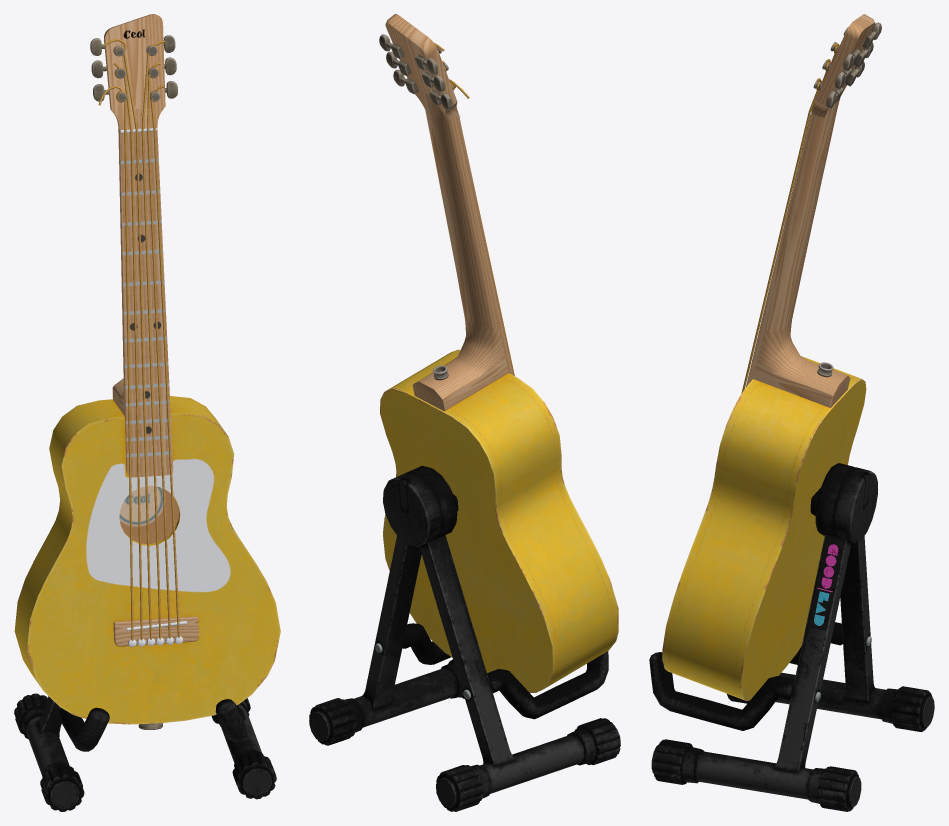
Rendered from guitarStand.glb.
3 renders of one model, left to right at view 1: azimuth 30°, elevation 25°; view 2: azimuth 150°, elevation 25°; view 3: azimuth 270°, elevation 25°, orthographic. The views are drawn at different scales.
Visible parts, largest first — view 1: guitar_geo_01, guitar_stand_geo_01; view 2: guitar_geo_01, guitar_stand_geo_01; view 3: guitar_geo_01, guitar_stand_geo_01.
Part boxes in pixels (x1,y1,x2,y2): guitar_geo_01: [14, 14, 280, 729]; guitar_stand_geo_01: [14, 693, 276, 811]; guitar_geo_01: [379, 14, 618, 692]; guitar_stand_geo_01: [309, 465, 620, 811]; guitar_geo_01: [662, 14, 881, 700]; guitar_stand_geo_01: [649, 463, 934, 811].
Size of what is drawn, in the model's own units: 0.8772 by 2.34 by 0.8044.
Materials: 2 (2 with a texture image).
